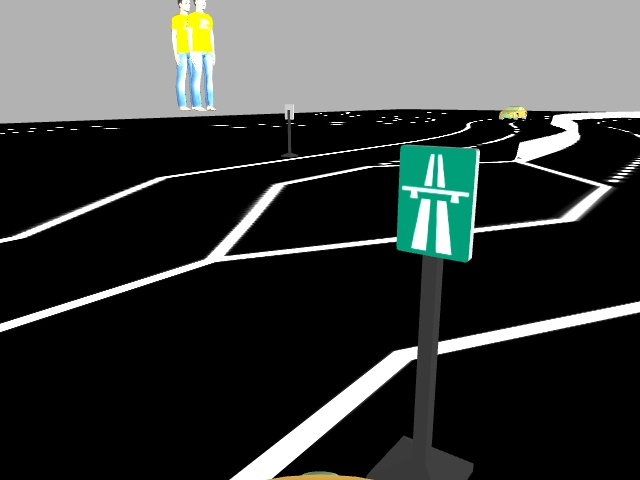HighwayEntrance: (393, 142, 481, 264)
